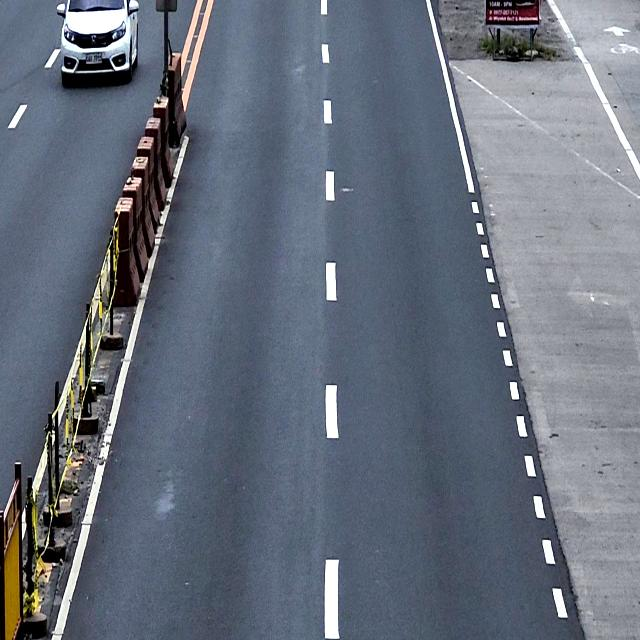Car: (56, 0, 139, 86)
License-Plate: (84, 51, 103, 65)
